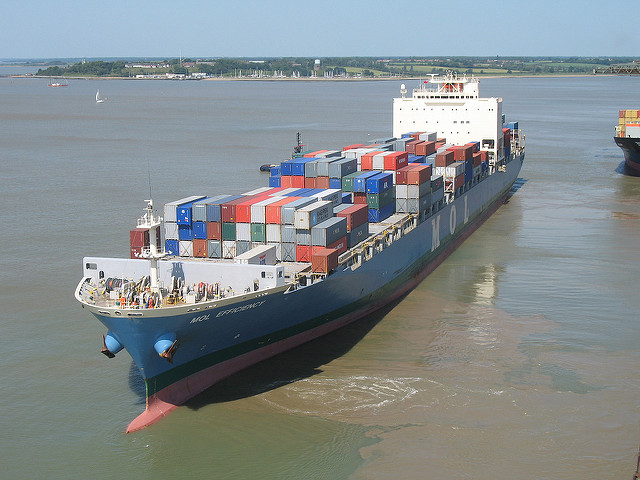boat: (90, 88, 109, 103)
container_ship: (79, 65, 525, 436)
